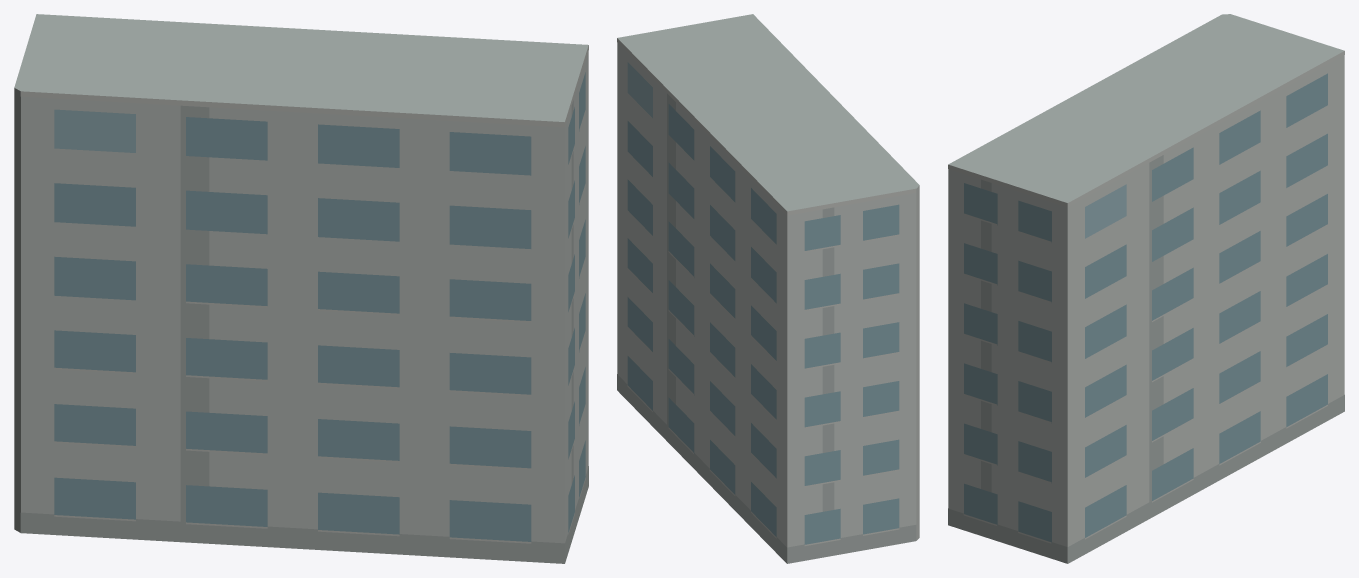
File: survey-upis-32636769.glb
The picture shows the model from 3 angles, left to right: view 1: azimuth 30°, elevation 25°; view 2: azimuth 150°, elevation 25°; view 3: azimuth 270°, elevation 25°; orthographic projection. The views are drawn at different scales.
Visible parts, largest first — view 1: survey-upis-32636769.tmp; view 2: survey-upis-32636769.tmp; view 3: survey-upis-32636769.tmp.
Part boxes in pixels (x1,y1,x2,y2): survey-upis-32636769.tmp: [14, 14, 588, 563]; survey-upis-32636769.tmp: [617, 14, 919, 563]; survey-upis-32636769.tmp: [948, 14, 1344, 563].
Bounding box in the file's own units: 22.67 × 20.15 × 20.09.
